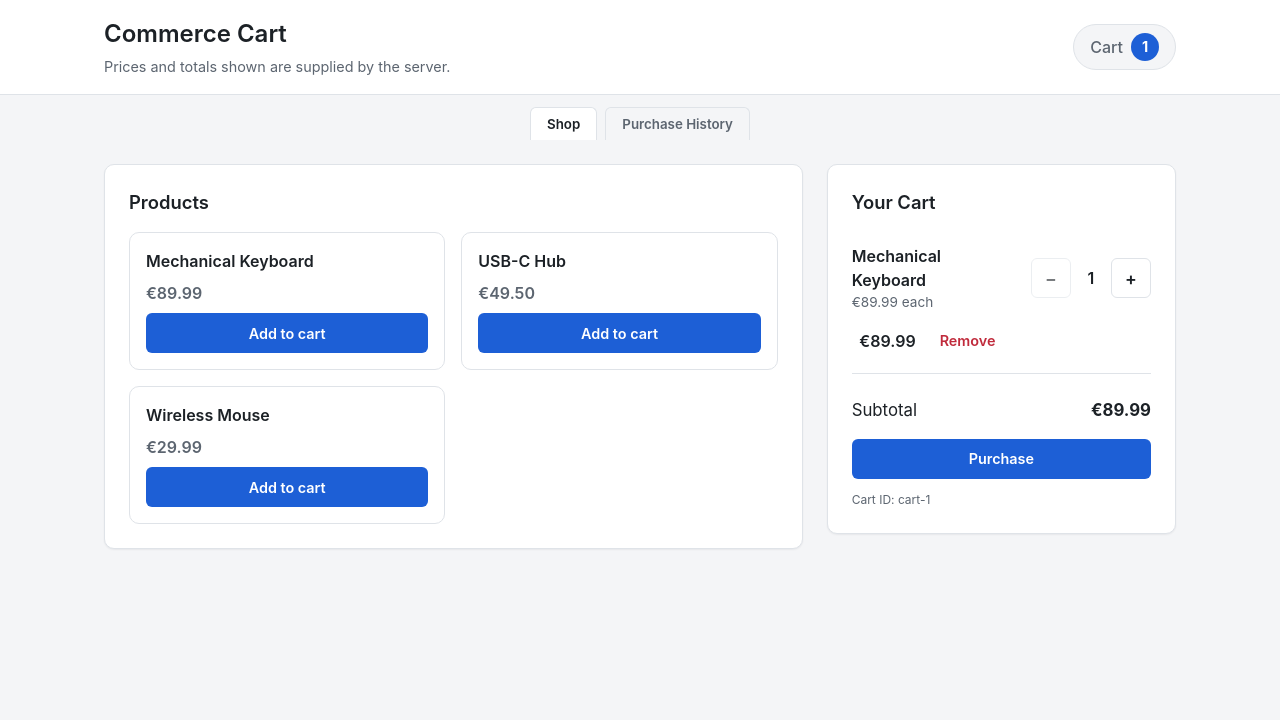
Commerce Cart application › increments item quantity
The image size is (1280, 720).
What coordinates should you click on to do the following:
click the button "+"
I would click on:
 (1131, 278)
Its box is [1111,258,1151,298].
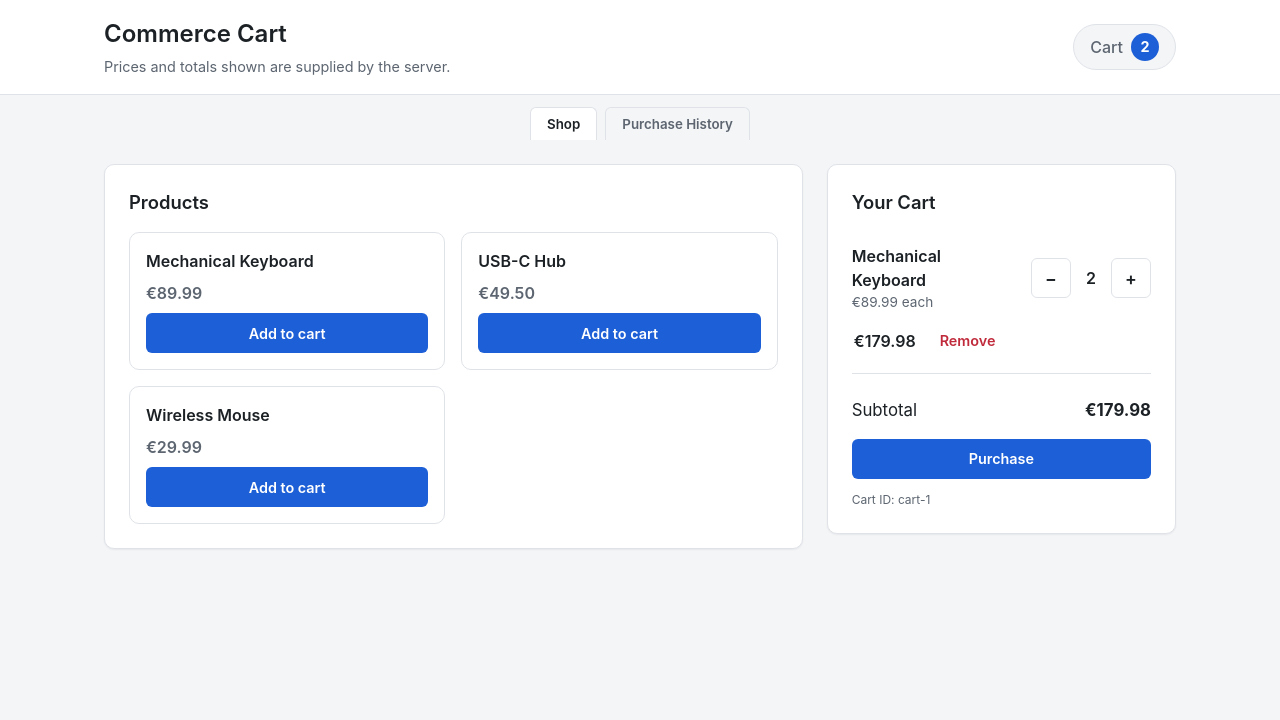
Check: the text "2" below "Your Cart" is shown, box [1086,268,1096,288]
